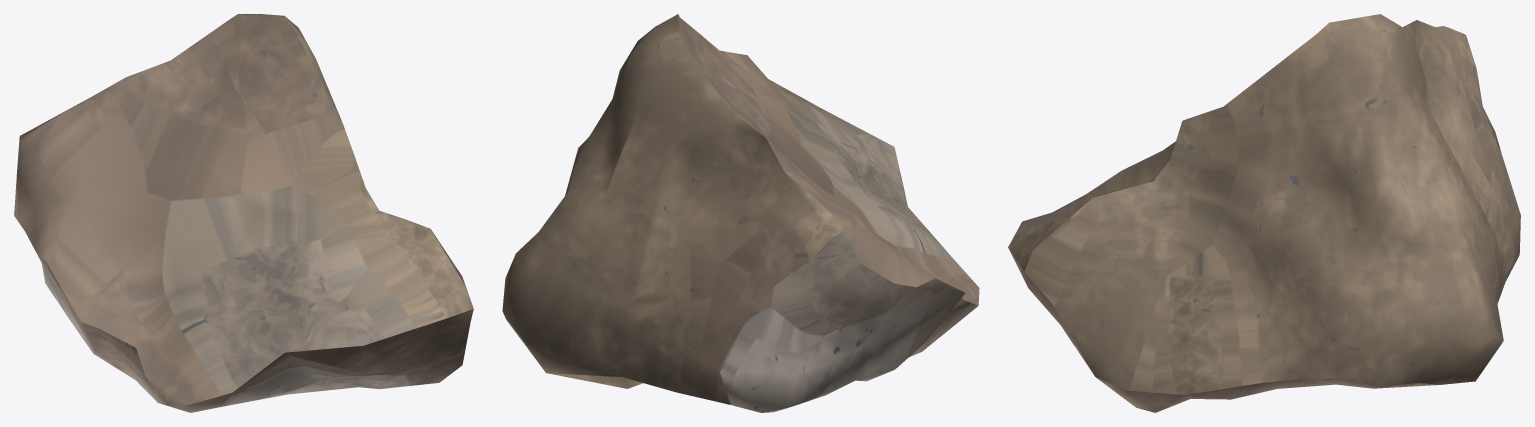
Rendered from SM_Rock_01.fbx.
3 renders of one model, left to right at view 1: azimuth 30°, elevation 25°; view 2: azimuth 150°, elevation 25°; view 3: azimuth 270°, elevation 25°, orthographic. The views are drawn at different scales.
Parts seen in each view (by area): view 1: SM_Rock_01_LOD0; view 2: SM_Rock_01_LOD0; view 3: SM_Rock_01_LOD0.
Boxes of the visible parts, x1=… form: SM_Rock_01_LOD0: x1=14, y1=14, x2=473, y2=412; SM_Rock_01_LOD0: x1=502, y1=14, x2=979, y2=412; SM_Rock_01_LOD0: x1=1008, y1=14, x2=1520, y2=412.
Size of the model in its own units: 12.56 by 14.59 by 11.02.
